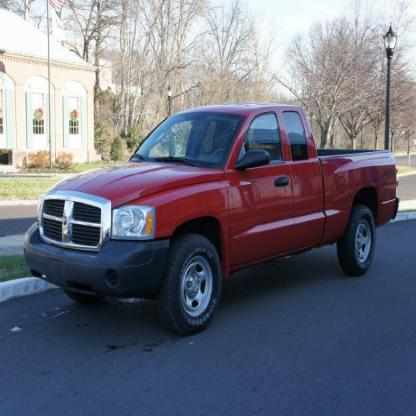Vehicle: (26, 101, 401, 335)
